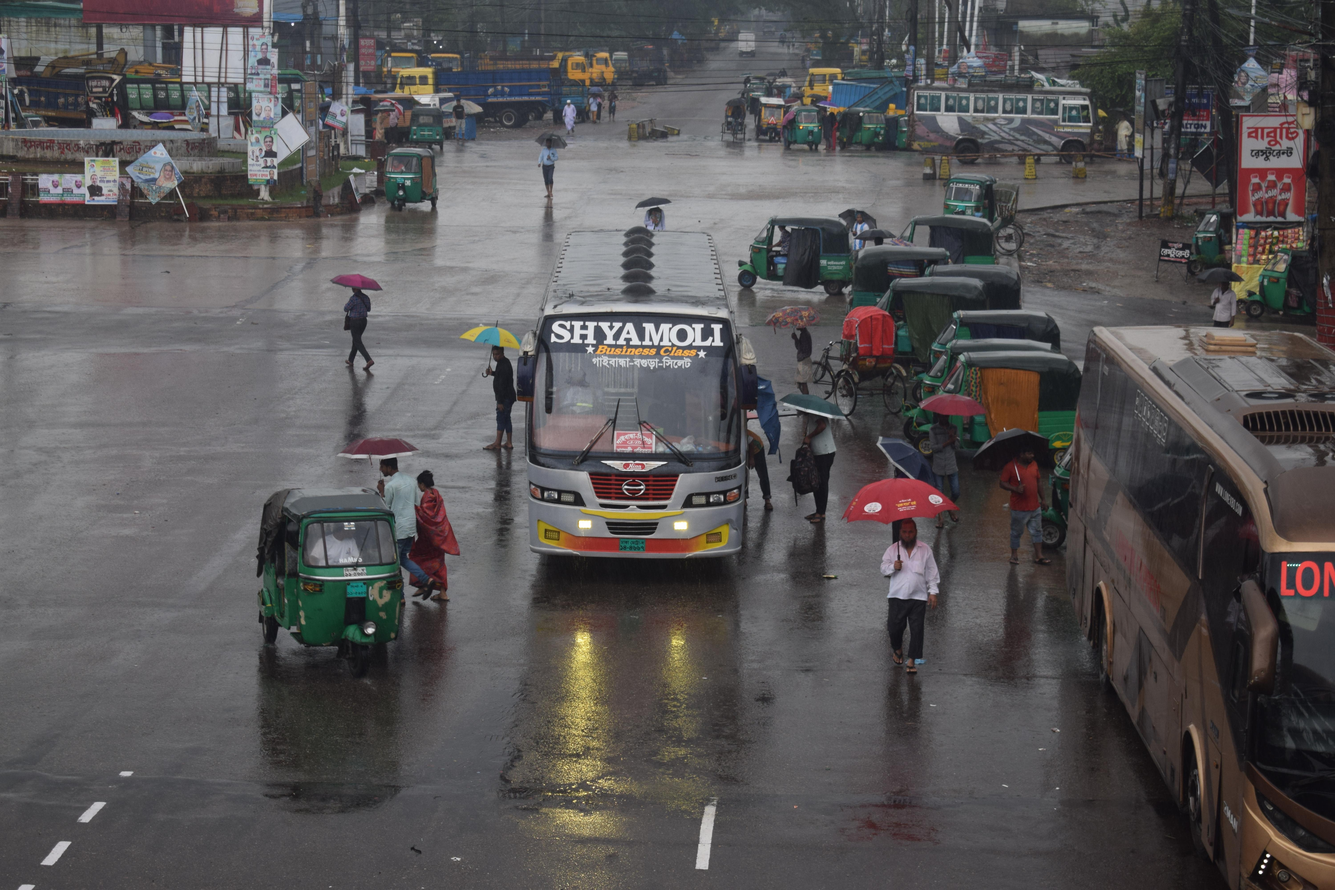Bus: (1017, 302, 1335, 855), (505, 197, 743, 644), (890, 71, 1128, 177), (54, 57, 271, 149)
Car: (786, 296, 929, 453), (698, 95, 754, 150)
Truck: (388, 50, 577, 143), (783, 67, 844, 125), (558, 50, 594, 110), (580, 44, 619, 92)
